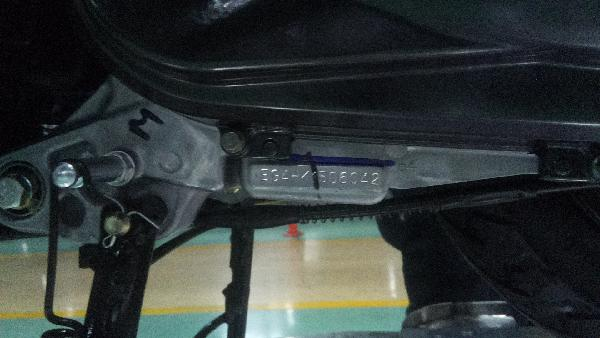box: (260, 168, 380, 187)
